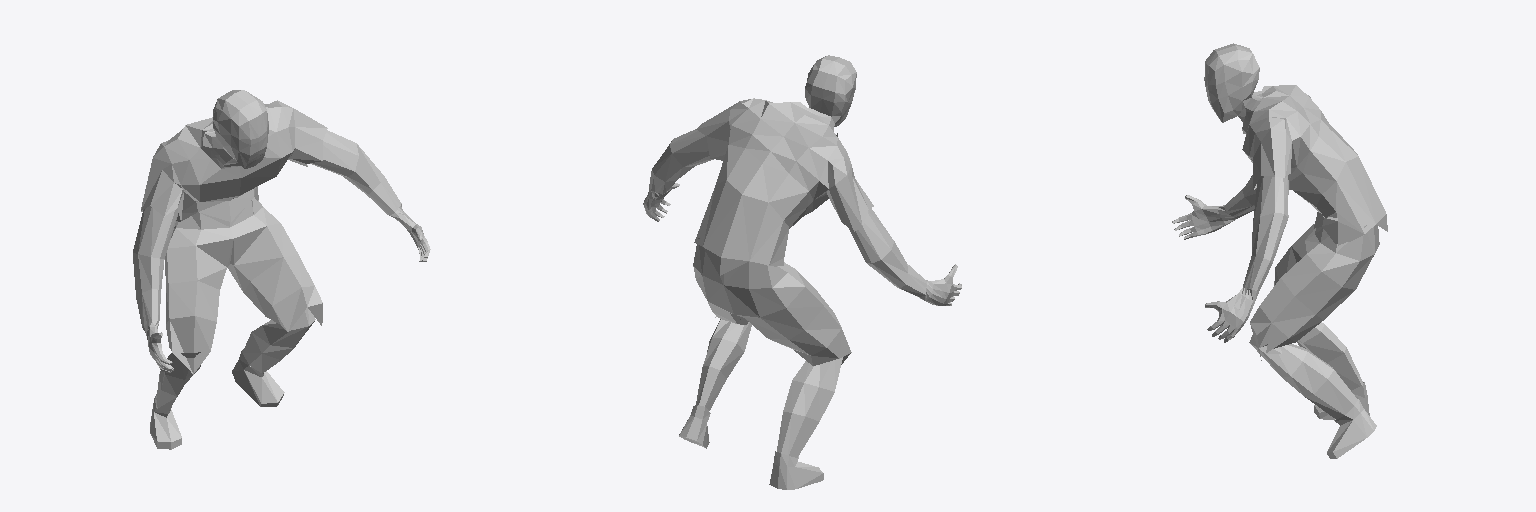
File: ZombieWalk(11).obj
3 views of the same model, side by side, from view 1: azimuth 30°, elevation 25°; view 2: azimuth 150°, elevation 25°; view 3: azimuth 270°, elevation 25° (orthographic).
Visible parts, largest first — view 1: Object001; view 2: Object001; view 3: Object001.
Part boxes in pixels (x1,y1,x2,y2): Object001: (133, 90, 430, 449); Object001: (643, 55, 961, 489); Object001: (1172, 43, 1387, 458).
Bounding box in the file's own units: 38.58 × 48.4 × 24.94.